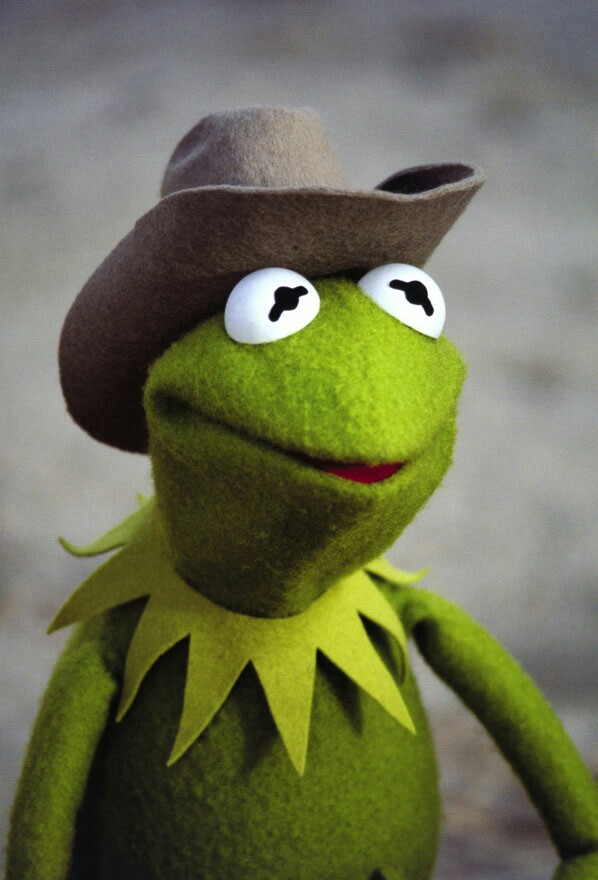kermit: (128, 255, 475, 613)
